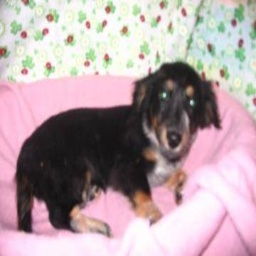dog: (13, 62, 221, 242)
